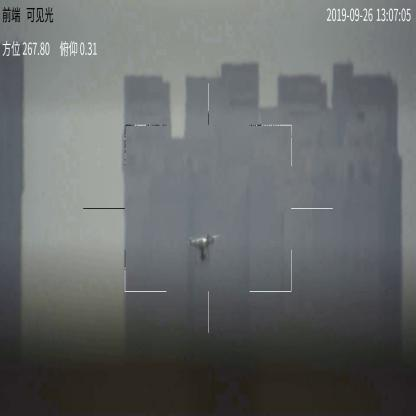uav: (181, 234, 218, 262)
